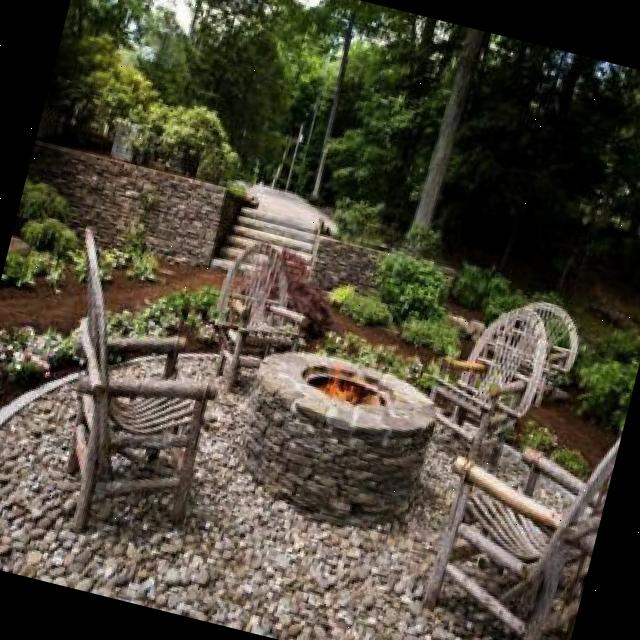fire: (316, 345, 373, 414)
